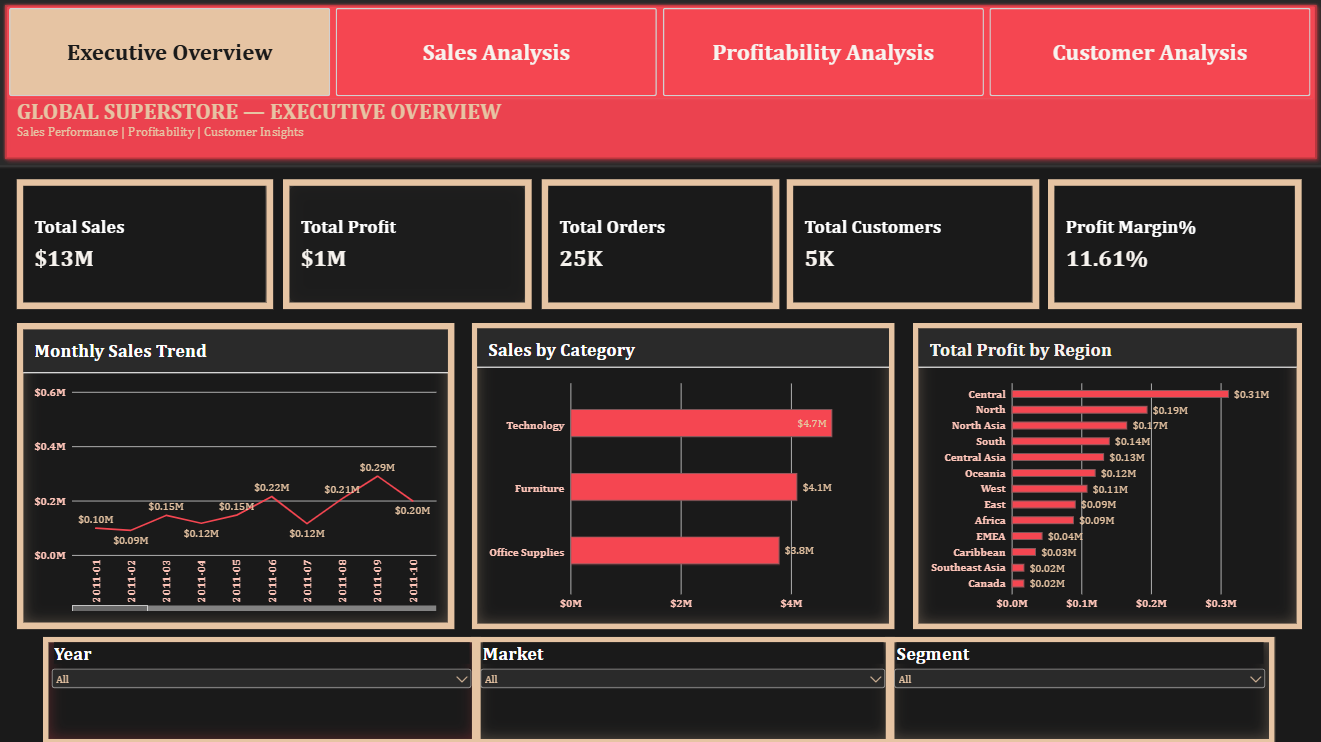

Layout of this report page (visuals, bound fields, positions):
{"tool":"powerbi","page":{"name":"Executive Overview","canvas":[1920,1080],"ordinal":0},"visuals":[{"type":"shape","box":[0,0,1920.1,244.3],"z":0},{"type":"textbox","box":[27.1,144.8,1892.9,79.6],"z":1000},{"type":"cardVisual","fields":{"Data":["FactSales.Total Sales"]},"box":[27.1,262.4,371,188.2],"z":2000},{"type":"cardVisual","fields":{"Data":["FactSales.Total Profit"]},"box":[412.6,262.4,360.1,188.2],"z":3000},{"type":"cardVisual","fields":{"Data":["FactSales.Total Orders"]},"box":[787.2,262.4,343.8,188.2],"z":4000},{"type":"cardVisual","fields":{"Data":["FactSales.Total Customers"]},"box":[1141.9,262.4,365.6,188.2],"z":5000},{"type":"cardVisual","fields":{"Data":["FactSales.Profit Margin %"]},"box":[1520.1,262.4,367.4,188.2],"z":6000},{"type":"lineChart","title":"Monthly Sales Trend","fields":{"Category":["DimDate.Year Month"],"Y":["FactSales.Total Sales"]},"box":[27.1,470.5,633.4,443.4],"z":7000},{"type":"clusteredBarChart","title":"Sales by Category","fields":{"Category":["DimProduct.Category"],"Y":["FactSales.Total Sales"]},"box":[685.9,470.5,611.7,443.4],"z":8000},{"type":"clusteredBarChart","fields":{"Category":["FactSales.Region"],"Y":["FactSales.Total Profit"]},"box":[1324.7,470.5,562.8,443.4],"z":9000},{"type":"slicer","fields":{"Values":["DimDate.Year"]},"box":[65.1,924.7,633.4,155.6],"z":10000},{"type":"slicer","fields":{"Values":["FactSales.Market"]},"box":[685.9,924.7,611.7,155.6],"z":11000},{"type":"slicer","fields":{"Values":["FactSales.Segment"]},"box":[1284.9,924.7,562.8,155.6],"z":12001},{"type":"pageNavigator","box":[14.5,12.7,1889.3,132.1],"z":12002}]}

Visuals, with their boxes in screenshot pixels (x1, y1, x2, y2), scaled from the page's 1920x1080 canvas onto the 1321x742 screenshot:
shape: (left=0, top=0, right=1320, bottom=168)
textbox: (left=19, top=99, right=1320, bottom=154)
cardVisual - FactSales.Total Sales: (left=19, top=180, right=274, bottom=310)
cardVisual - FactSales.Total Profit: (left=284, top=180, right=532, bottom=310)
cardVisual - FactSales.Total Orders: (left=542, top=180, right=778, bottom=310)
cardVisual - FactSales.Total Customers: (left=786, top=180, right=1037, bottom=310)
cardVisual - FactSales.Profit Margin %: (left=1046, top=180, right=1299, bottom=310)
"Monthly Sales Trend" lineChart: (left=19, top=323, right=454, bottom=628)
"Sales by Category" clusteredBarChart: (left=472, top=323, right=893, bottom=628)
clusteredBarChart - FactSales.Region x FactSales.Total Profit: (left=911, top=323, right=1299, bottom=628)
slicer - DimDate.Year: (left=45, top=635, right=481, bottom=741)
slicer - FactSales.Market: (left=472, top=635, right=893, bottom=741)
slicer - FactSales.Segment: (left=884, top=635, right=1271, bottom=741)
pageNavigator: (left=10, top=9, right=1310, bottom=99)
